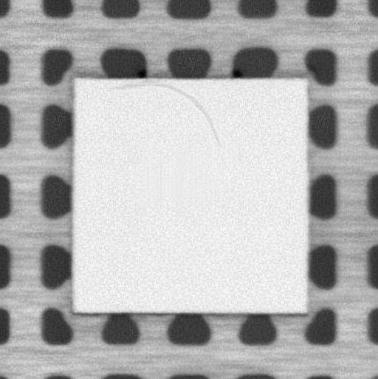DIE_CRACK: (113, 83, 223, 147)
